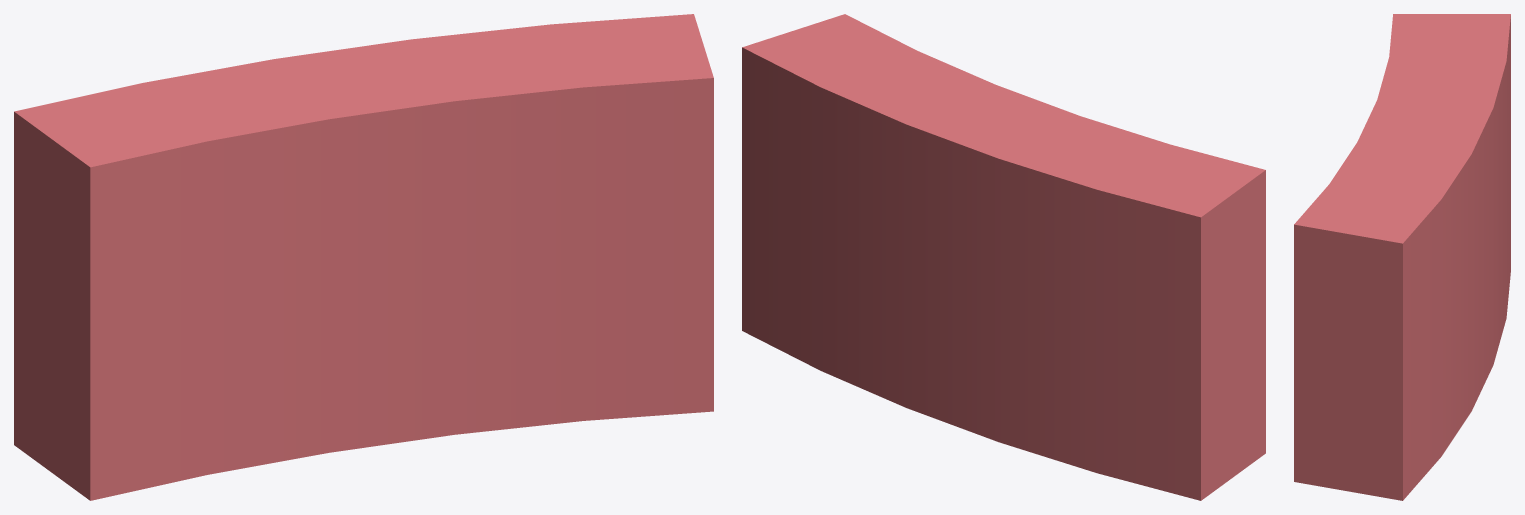
File: block2.fbx
3 renders of one model, left to right at view 1: azimuth 30°, elevation 25°; view 2: azimuth 150°, elevation 25°; view 3: azimuth 270°, elevation 25°, orthographic. The views are drawn at different scales.
Visible parts, largest first — view 1: red_block; view 2: red_block; view 3: red_block.
Boxes of the visible parts, x1,y1,x2,y2 form: red_block: (14, 14, 713, 500); red_block: (742, 14, 1265, 500); red_block: (1294, 14, 1510, 500).
Size of the model in its own units: 383 by 200 by 153.
